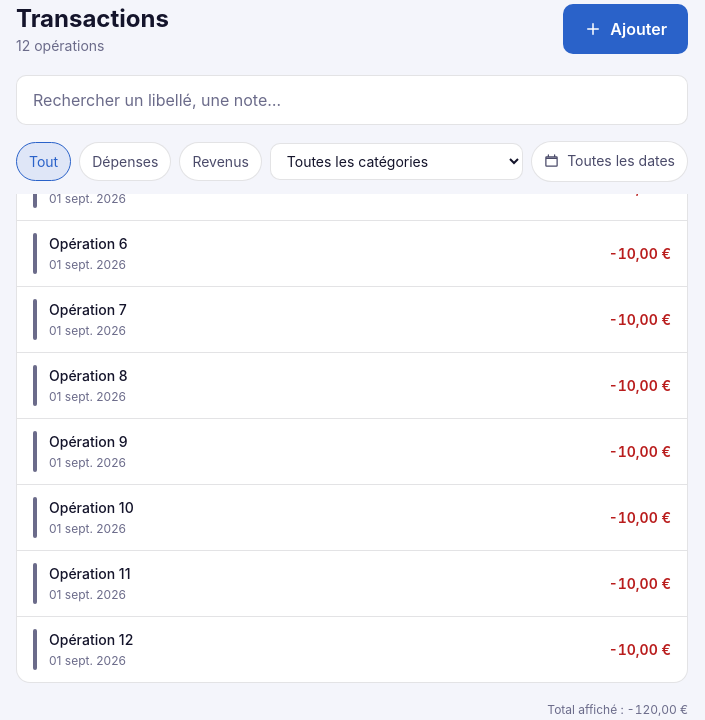
Scenario: TransactionsPage — recherche › ne garde que les lignes qui correspondent et annonce le nombre de résultats
This screenshot has width=705, height=720.
(page scrolled)
In the search field with placeholder "Rechercher un libellé, une note…": x=352, y=100 [16,74,688,124], type "opération 7"
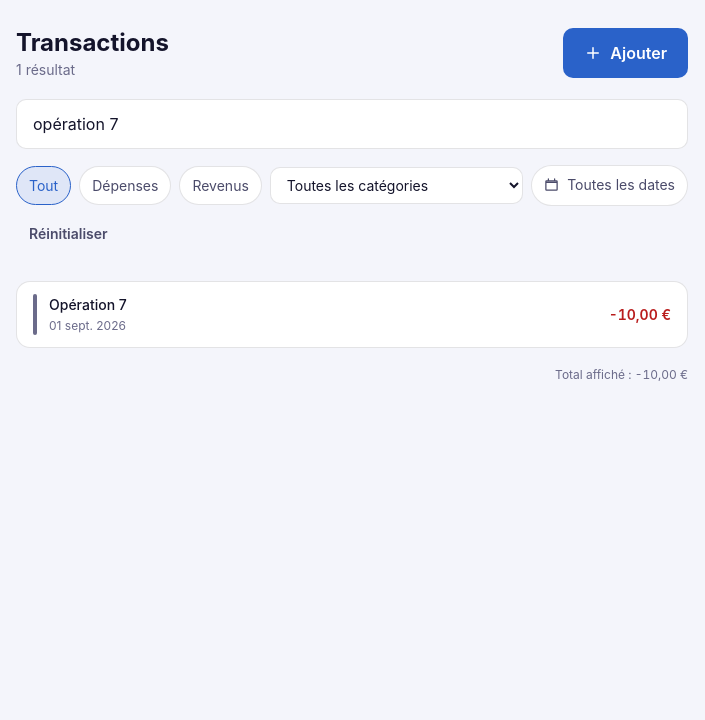
Check: the text "Opération 7" is shown, box [49,294,127,314]
Check: the text "1 résultat" is shown, box [16,61,75,78]
Check: the text "Opération 8" is gone
